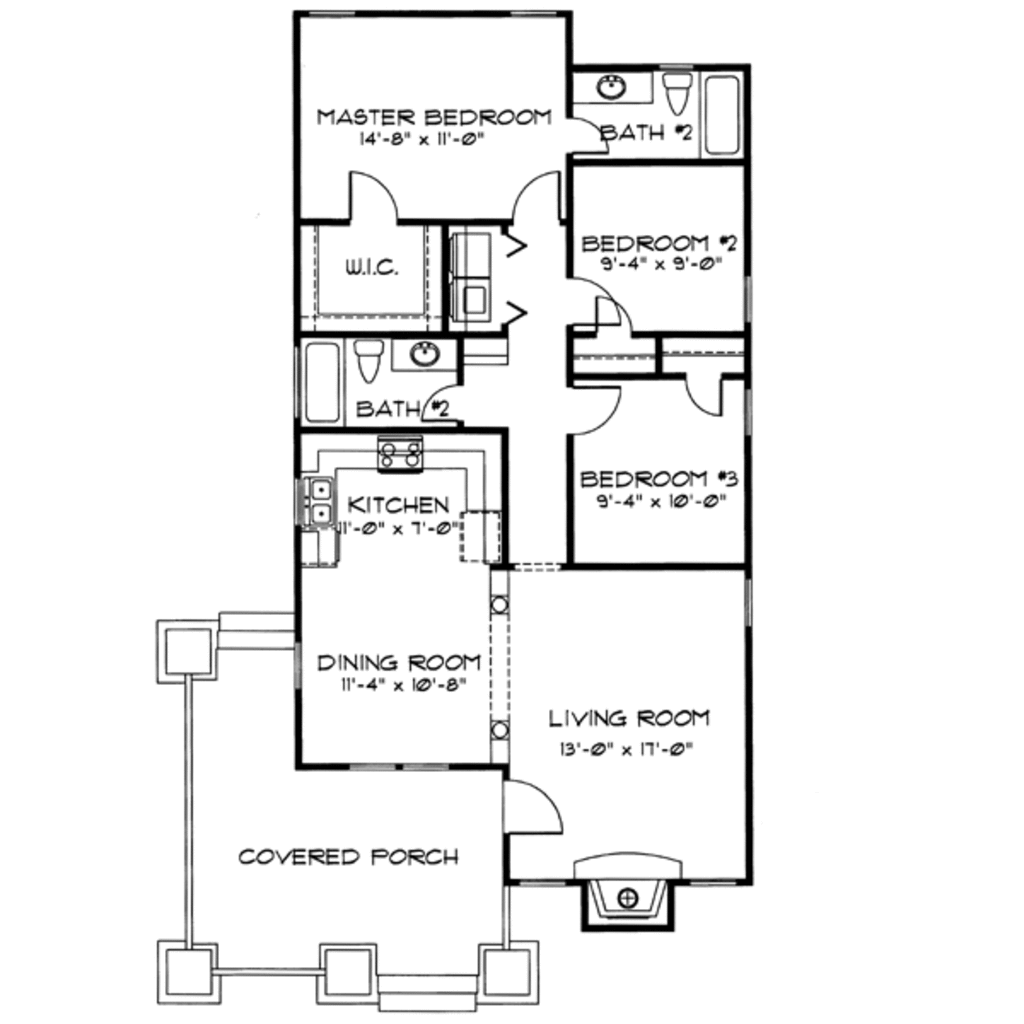door: (494, 776, 572, 837), (344, 163, 402, 226), (565, 383, 622, 440), (512, 172, 568, 226), (568, 276, 624, 326), (683, 372, 729, 421), (594, 294, 641, 340), (563, 111, 612, 155), (418, 381, 468, 424)
large_sink: (350, 334, 390, 392), (661, 70, 697, 118)
small_sink: (567, 65, 649, 106), (395, 336, 457, 373)
tub: (304, 335, 343, 427), (704, 68, 742, 156)
twin_sink: (289, 472, 350, 540)
window: (343, 755, 454, 776), (738, 272, 759, 335), (738, 384, 758, 441), (288, 642, 309, 696), (744, 571, 759, 635)
